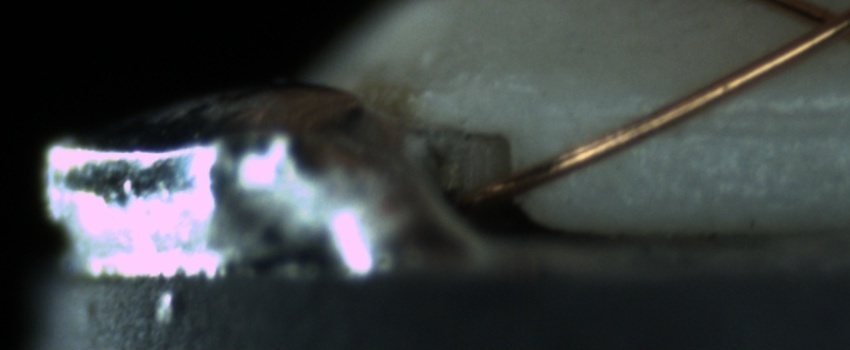CL: (780, 0, 849, 56)
DL: (620, 87, 850, 156)
